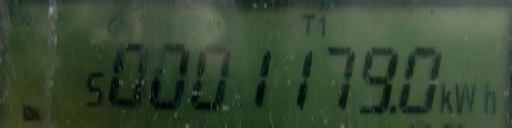0: (105, 33, 150, 112), (187, 35, 232, 114), (148, 30, 187, 117), (403, 33, 441, 121), (82, 64, 107, 110)
1: (246, 44, 280, 112), (293, 42, 323, 114)
7: (318, 37, 355, 119)
9: (359, 39, 396, 126)
d: (384, 99, 405, 121)
